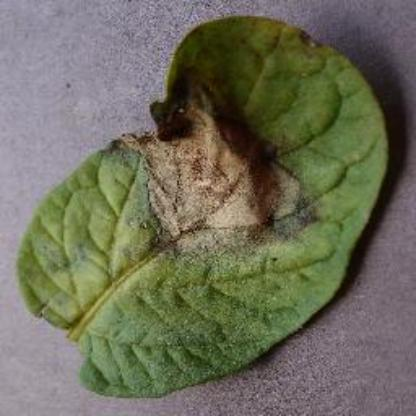Late-Blight: (17, 14, 390, 402)
